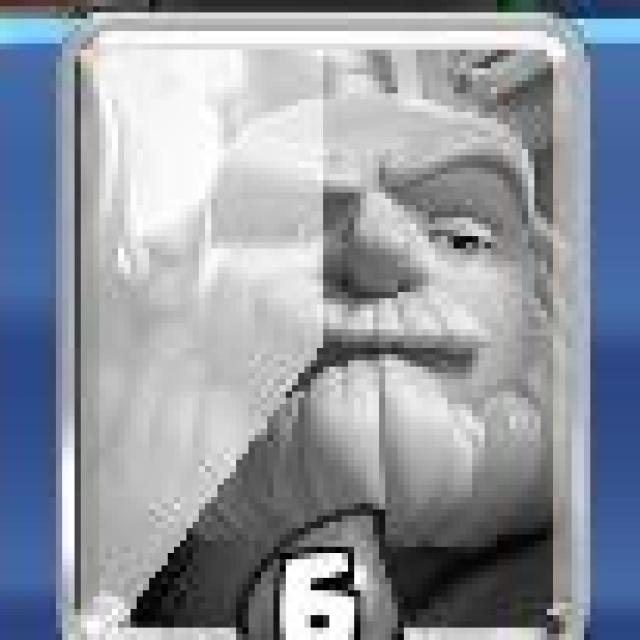Royal_Giant: (60, 12, 588, 640)
